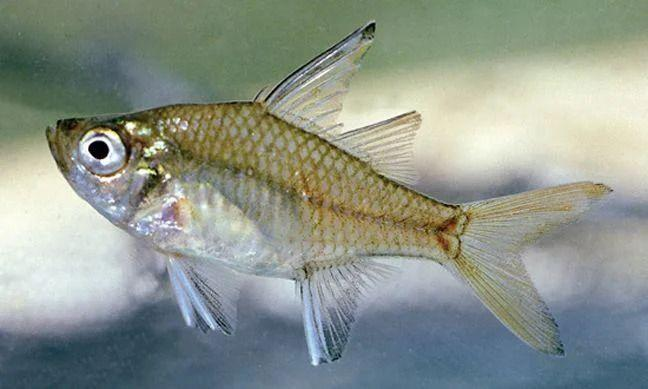Glass Perchlet: (44, 22, 616, 366)
